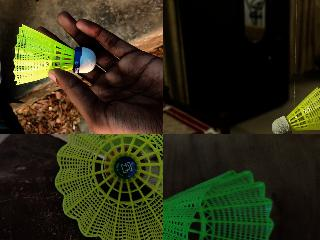shuttlecock: (55, 134, 162, 239), (163, 169, 276, 239), (12, 24, 96, 84), (271, 87, 319, 133)
